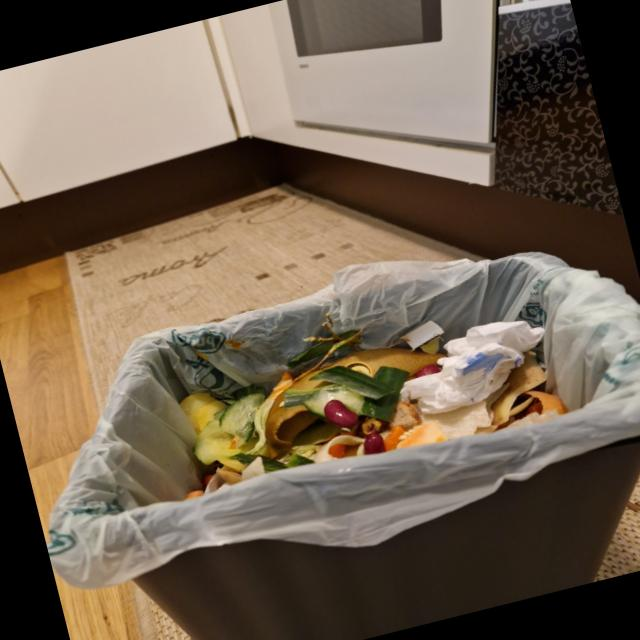organic waste: (388, 307, 560, 421)
